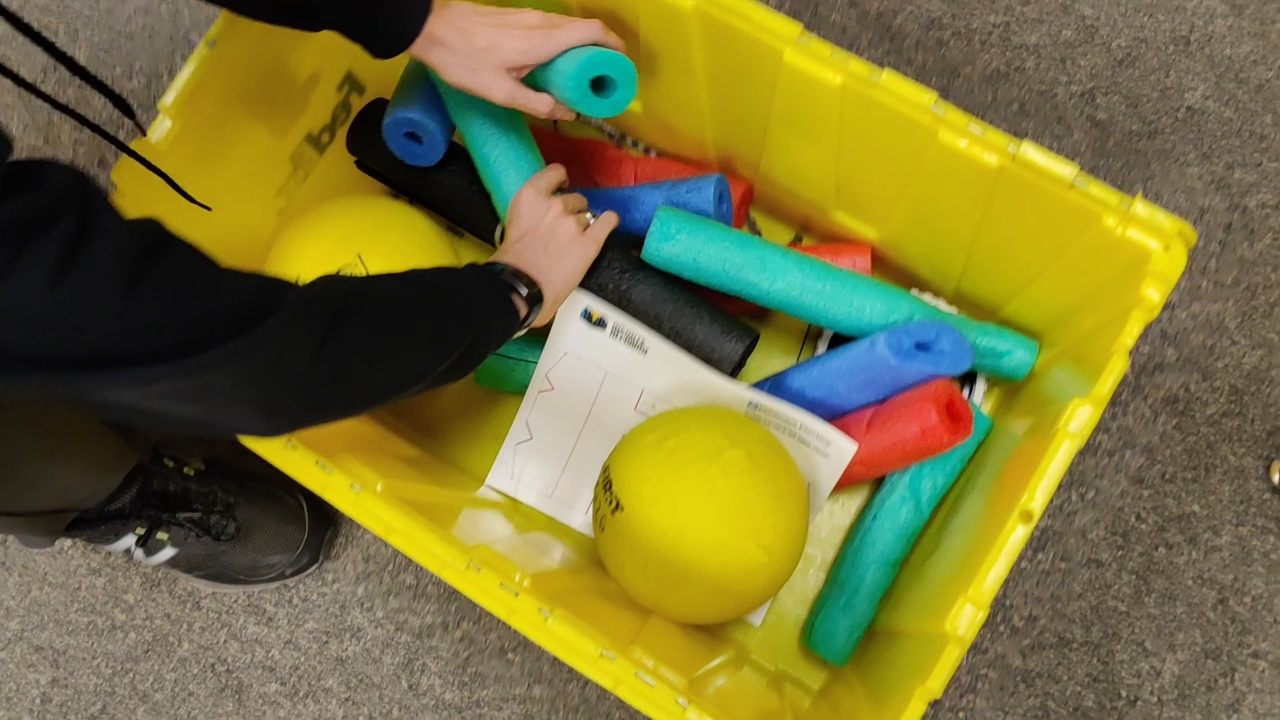Ball: (593, 407, 811, 617)
